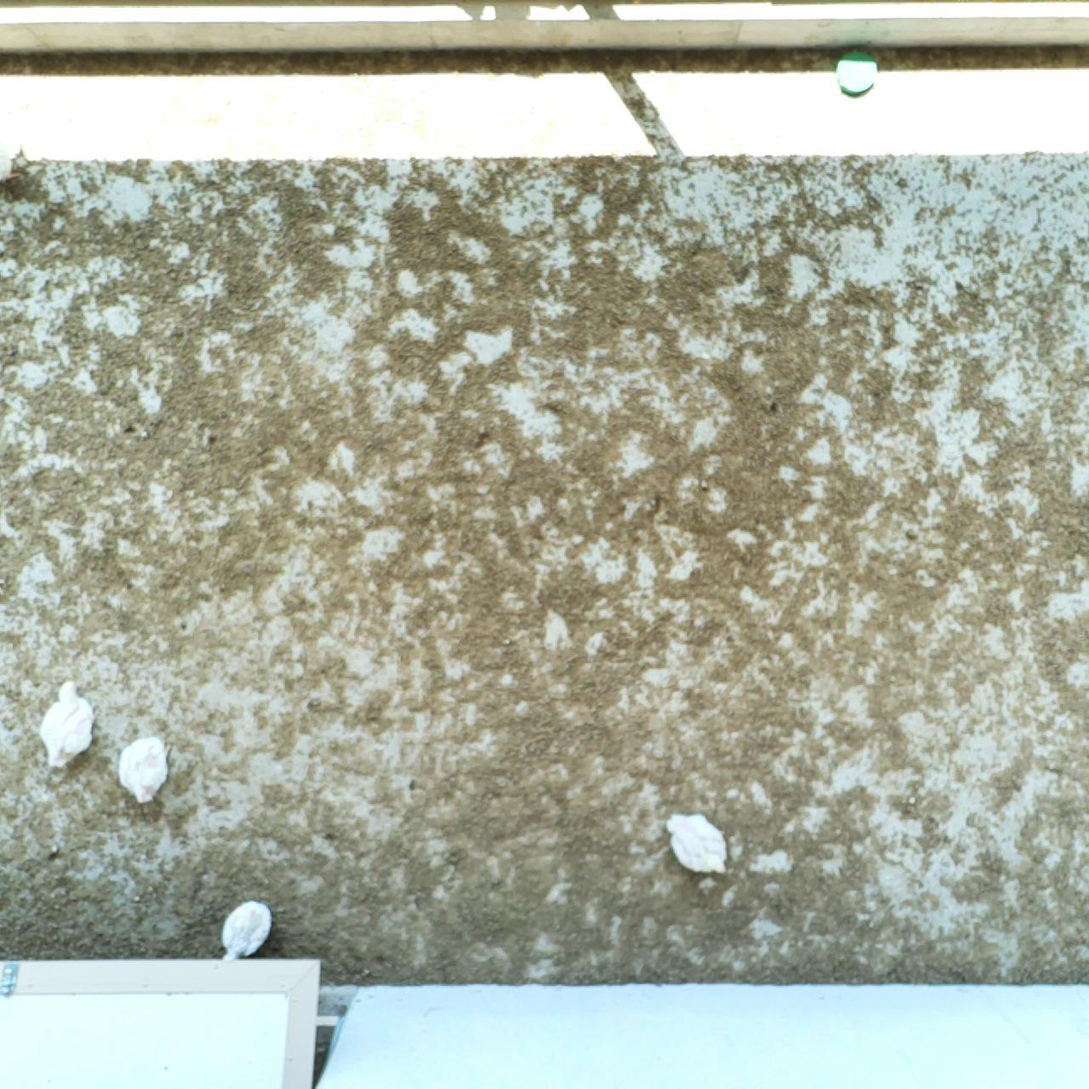chicken: (36, 676, 96, 768), (660, 807, 730, 879), (118, 734, 177, 807), (219, 899, 276, 964)
